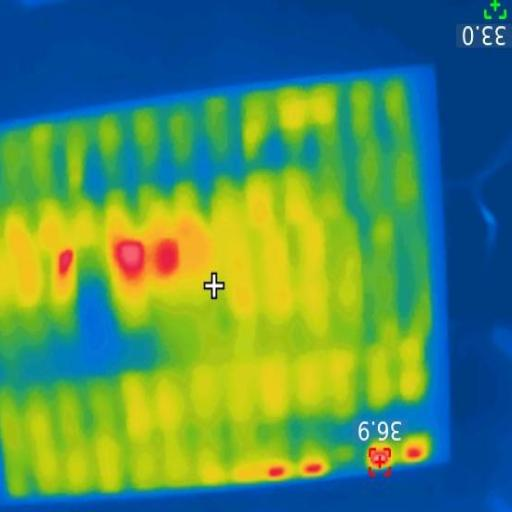hotspot: (111, 238, 145, 280), (151, 237, 179, 279), (57, 245, 75, 280), (297, 460, 333, 476), (365, 446, 389, 468), (265, 462, 288, 480), (401, 443, 423, 460)
